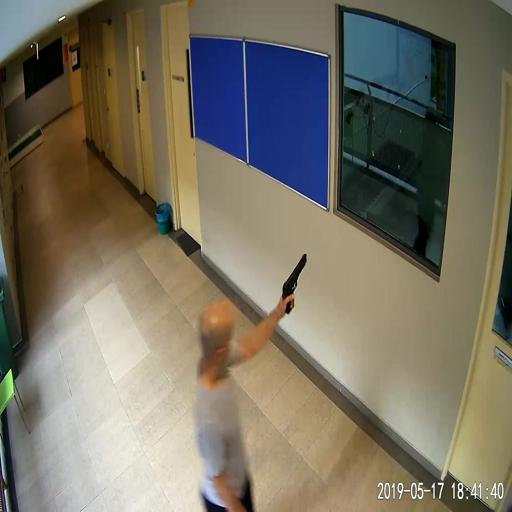pistol: (282, 253, 306, 313)
